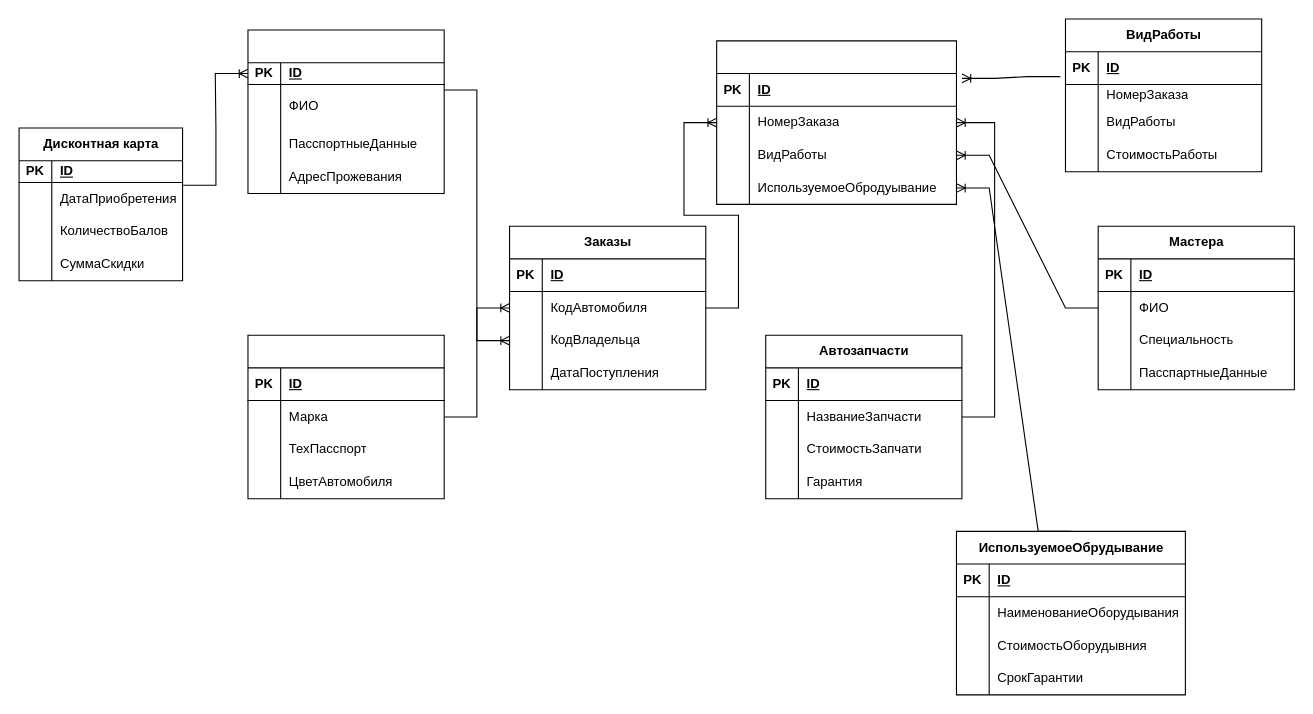
The diagram is 1313 pixels wide and 714 high, and some of its shapes have lost their labels. Here are the shapes that lost their labels. From the top down, the box of each, then its label:
(247, 29, 444, 193): клиенты
(716, 40, 956, 204): УслугиЗаказов
(247, 334, 444, 499): Автомобилиц
